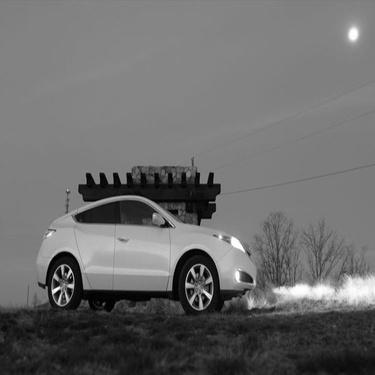car: (26, 190, 261, 315)
